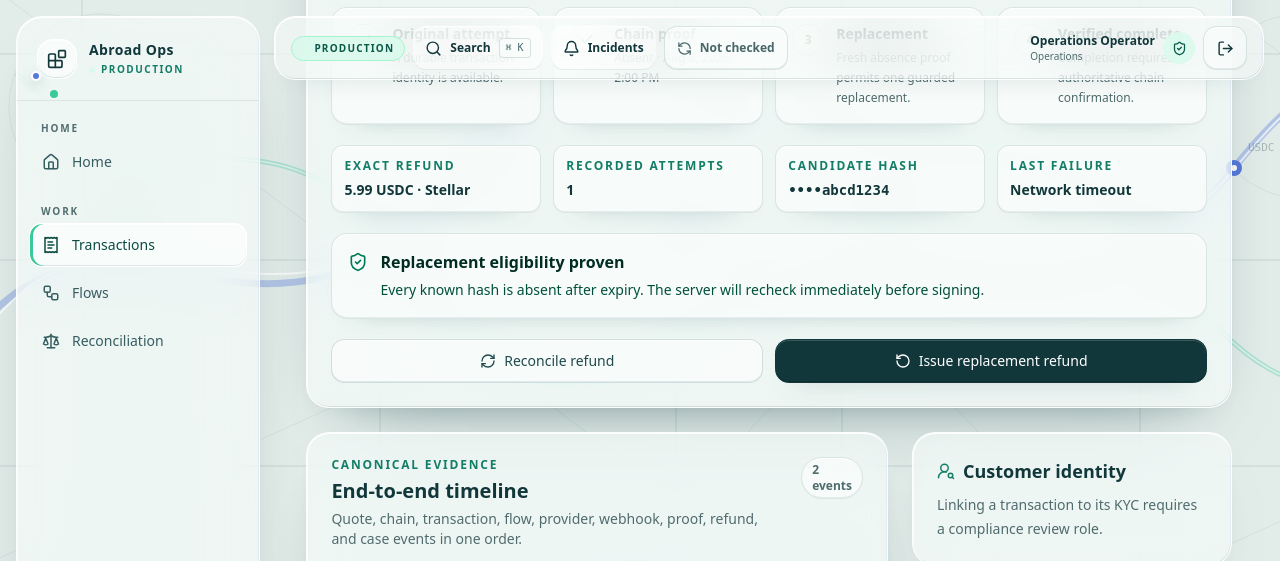
Scenario: Ops investigation workspace › shows the refund proof ladder and issues a guarded replacement only when eligible
(page scrolled)
expect the text "Replacement eligibility proven" is shown: met, box [380,251,624,273]
expect the text "••••abcd1234" is shown: met, box [788,182,889,198]
Click the button "Issue replacement refund".
click(991, 361)  # box [775,339,1207,383]
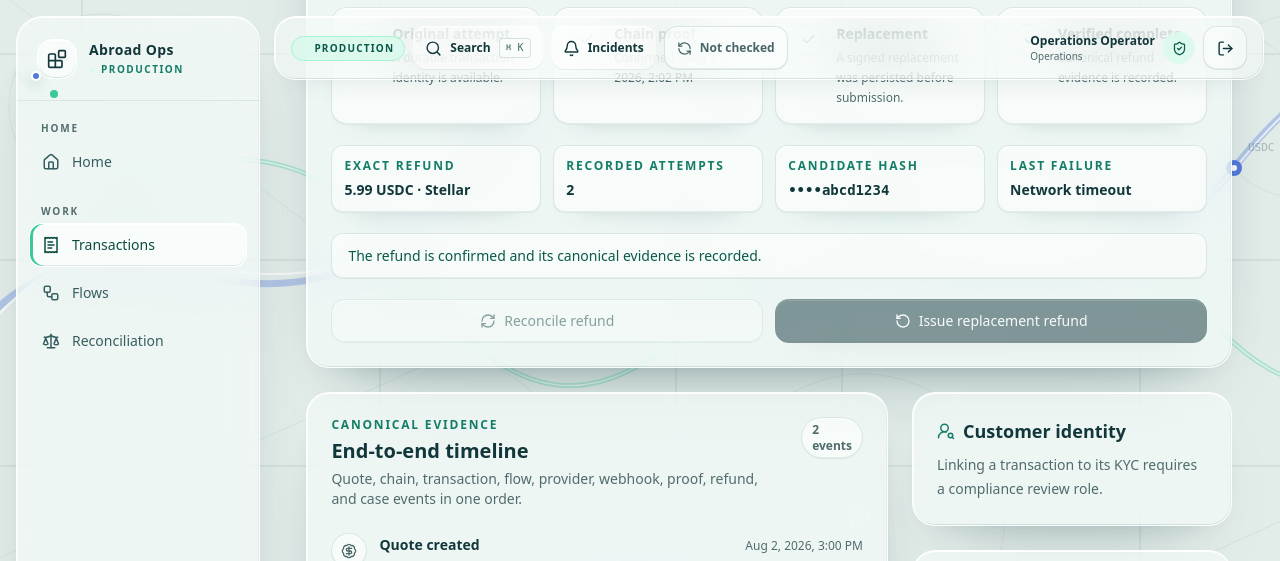
expect the text "The refund is confirmed and its canonical evidence is recorded." is shown: met, box [331,233,1207,279]
